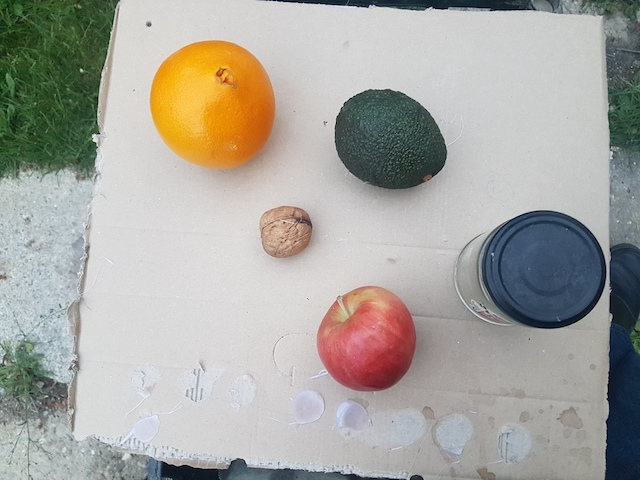apple: (314, 280, 421, 391)
avocado: (335, 85, 452, 187)
nut: (255, 202, 314, 256)
orange: (143, 39, 278, 172)
recipient: (491, 209, 606, 329)
